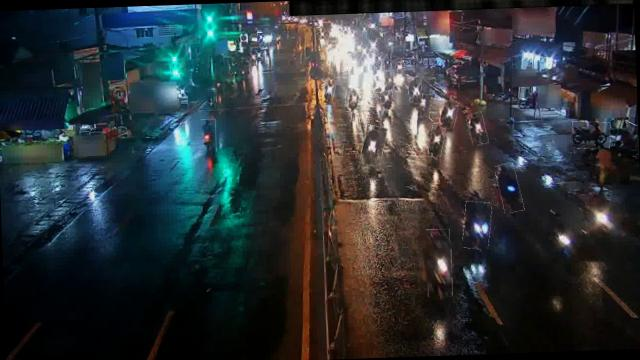Bike: (426, 228, 452, 298), (462, 202, 493, 250), (497, 163, 522, 214), (572, 122, 611, 150), (362, 125, 386, 167), (468, 113, 488, 146), (428, 124, 445, 158), (200, 119, 217, 153), (439, 100, 458, 129), (345, 88, 364, 114), (376, 90, 394, 110), (408, 78, 422, 103), (417, 95, 432, 118), (322, 80, 336, 103), (384, 72, 395, 88), (208, 89, 216, 105), (396, 58, 404, 68)
